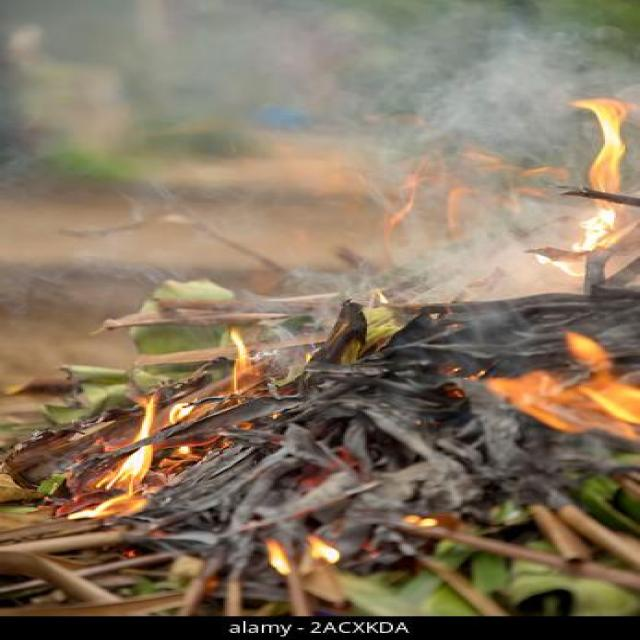fire: (485, 330, 640, 442), (573, 98, 624, 207), (95, 444, 152, 492), (574, 208, 616, 251), (66, 494, 126, 520), (231, 328, 251, 393)
